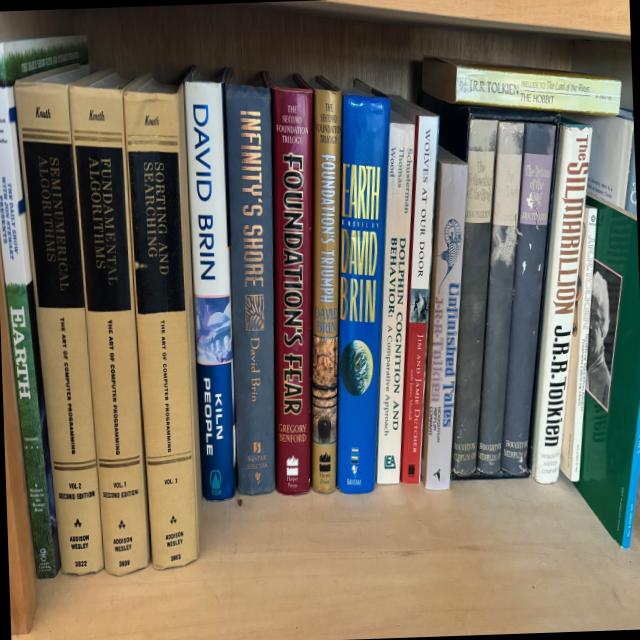book: (0, 35, 87, 577), (14, 66, 104, 575), (67, 68, 151, 576), (122, 77, 206, 569), (430, 98, 509, 476), (328, 89, 391, 494), (525, 121, 593, 485), (380, 94, 439, 485), (574, 200, 640, 548), (184, 70, 237, 503), (224, 81, 278, 495), (497, 121, 557, 475), (475, 120, 525, 476), (418, 146, 469, 491), (271, 78, 313, 495), (373, 110, 416, 484), (305, 75, 342, 494), (418, 54, 623, 123), (558, 205, 598, 482), (373, 379, 396, 483)
